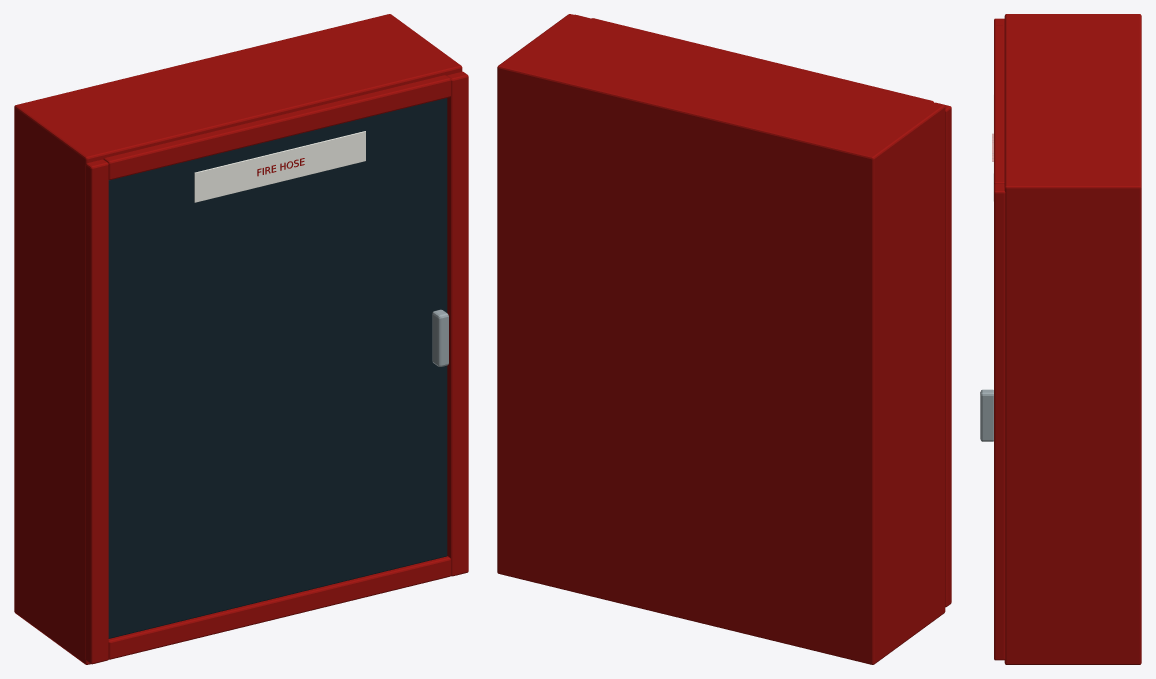
Rendered from OAA_FireHoseCabinet.fbx.
3 views of the same model, side by side, from view 1: azimuth 30°, elevation 25°; view 2: azimuth 150°, elevation 25°; view 3: azimuth 270°, elevation 25° (orthographic). The views are drawn at different scales.
Visible parts, largest first — view 1: Door_Hinge_Left.002_Mesh, Body; view 2: Body, Door_Hinge_Left.002_Mesh; view 3: Body, Door_Hinge_Left.002_Mesh.
Part boxes in pixels (x1,y1,x2,y2): Door_Hinge_Left.002_Mesh: (85, 71, 468, 664); Body: (14, 14, 462, 664); Body: (497, 14, 945, 664); Door_Hinge_Left.002_Mesh: (574, 14, 951, 607); Body: (1004, 14, 1141, 664); Door_Hinge_Left.002_Mesh: (980, 18, 1005, 660).
Size of the model in its own units: 0.662 by 0.85 by 0.259.
